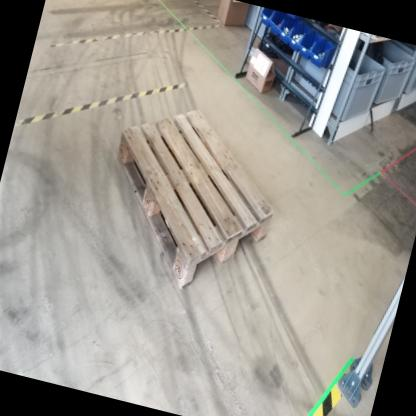BoxFace: (110, 102, 277, 301)
